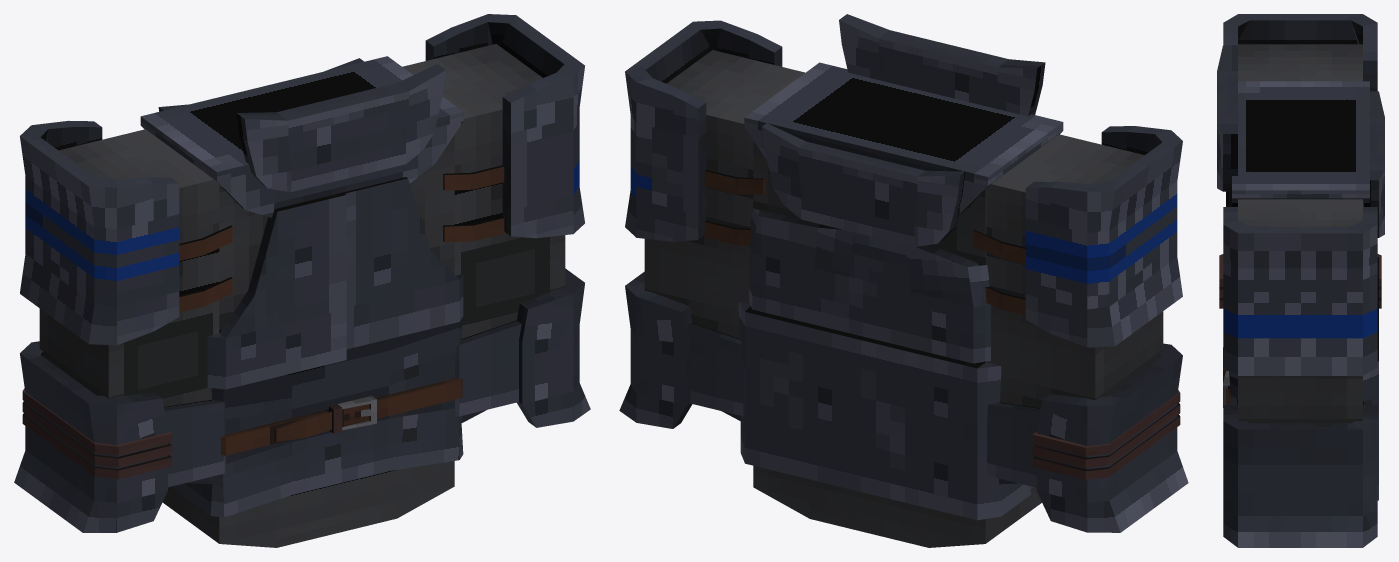
3 renders of one model, left to right at view 1: azimuth 30°, elevation 25°; view 2: azimuth 150°, elevation 25°; view 3: azimuth 270°, elevation 25°, orthographic. The views are drawn at different scales.
Parts seen in each view (by area): view 1: body, left_arm, right_arm; view 2: body, left_arm, right_arm; view 3: right_arm, body, left_arm.
Boxes of the visible parts, x1=… form: body: x1=140, y1=56, x2=463, y2=547; left_arm: x1=14, y1=120, x2=232, y2=532; right_arm: x1=402, y1=14, x2=590, y2=427; body: x1=738, y1=14, x2=1063, y2=547; left_arm: x1=972, y1=126, x2=1188, y2=532; right_arm: x1=619, y1=20, x2=804, y2=428; right_arm: x1=1223, y1=199, x2=1377, y2=547; body: x1=1217, y1=45, x2=1384, y2=500; left_arm: x1=1219, y1=14, x2=1381, y2=308.
Size of the model in its own units: 1.13 by 0.9435 by 0.357.
Materials: 1 (1 with a texture image).
